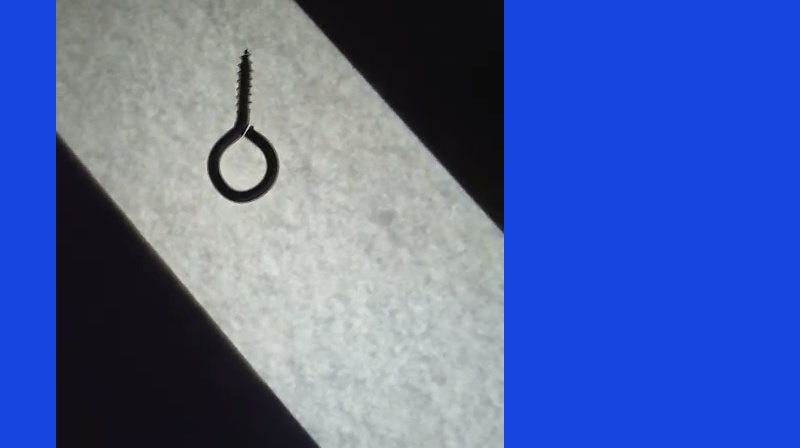O001: (205, 46, 280, 203)
